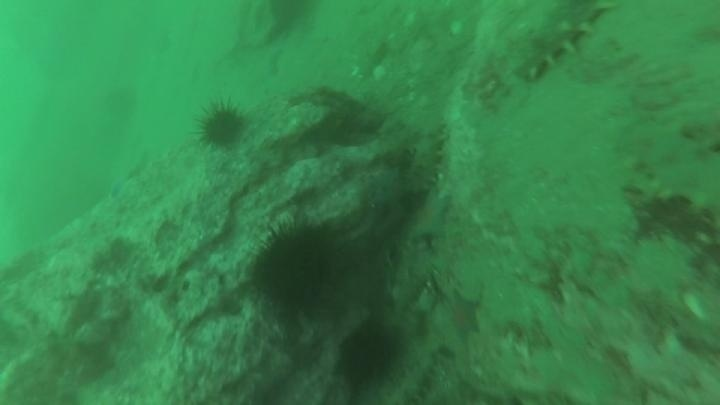echinus: (250, 219, 347, 319), (333, 319, 405, 390), (193, 99, 249, 152)
holothurian: (610, 114, 718, 219), (507, 1, 618, 86), (403, 121, 449, 198), (382, 348, 440, 405)
starfish: (405, 189, 454, 245), (440, 290, 484, 343)
